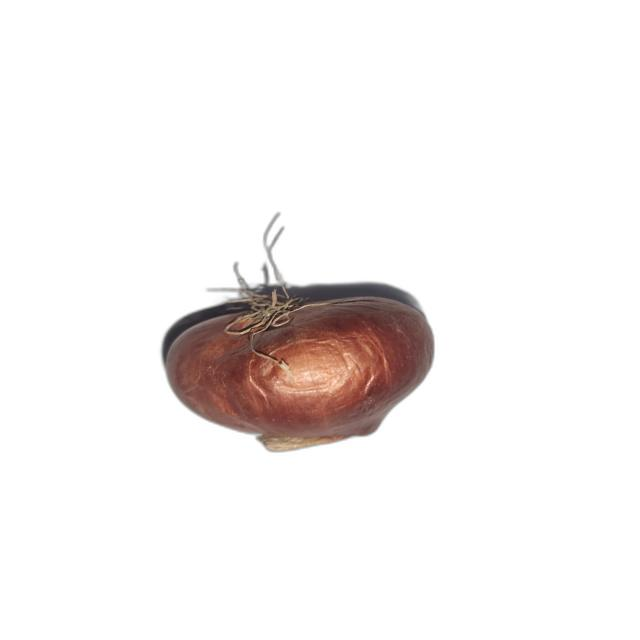onion: (164, 288, 436, 452)
